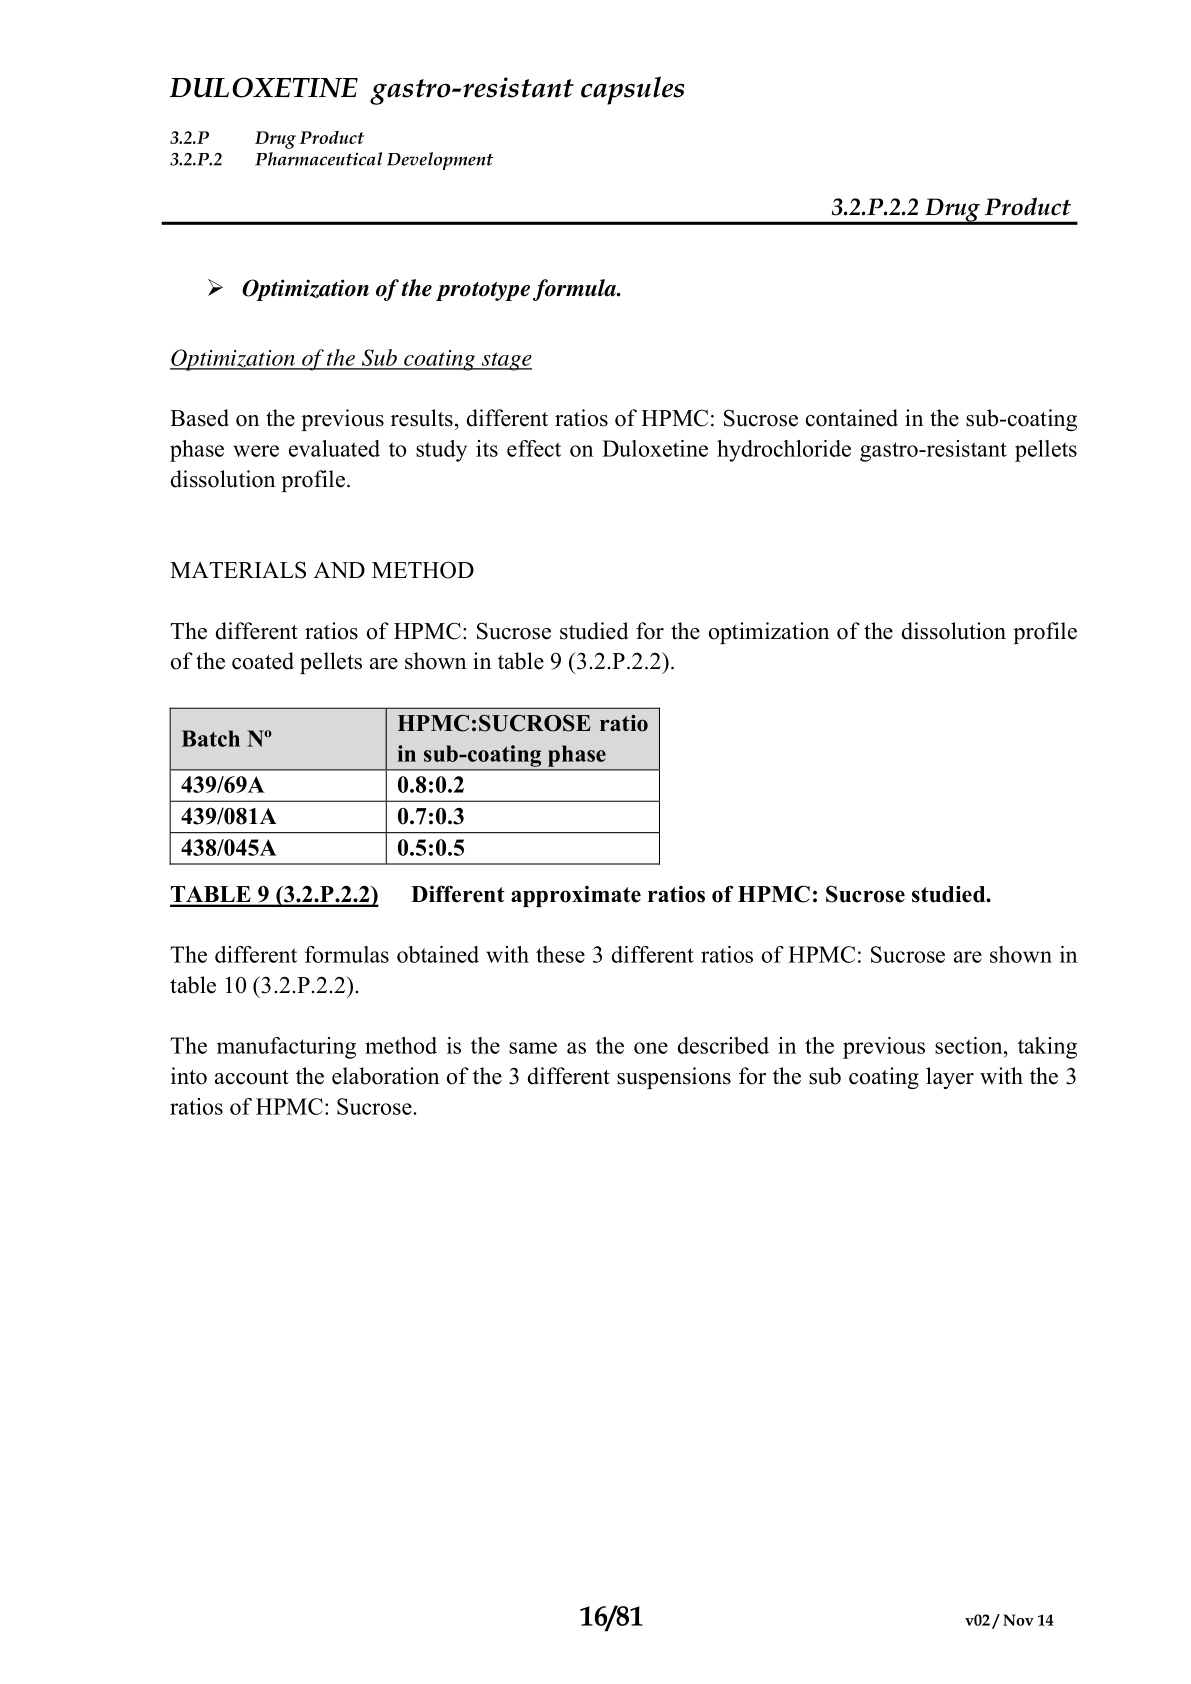full_lined: (169, 706, 660, 865)
